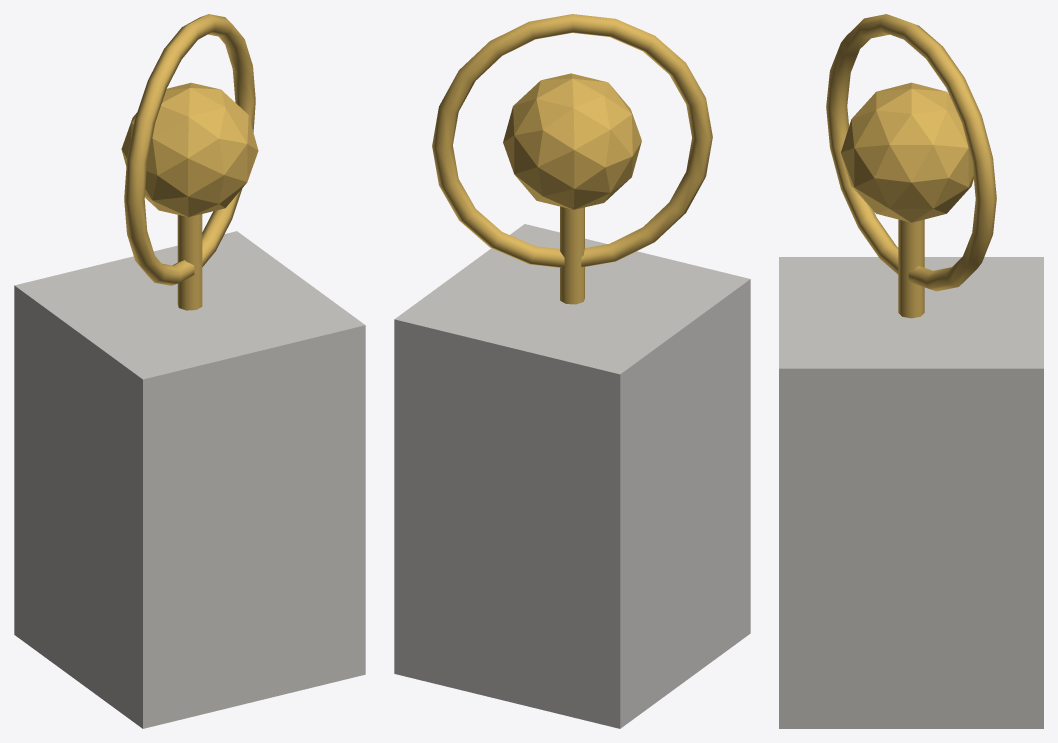
Rendered from escultura.glb.
3 renders of one model, left to right at view 1: azimuth 30°, elevation 25°; view 2: azimuth 150°, elevation 25°; view 3: azimuth 270°, elevation 25°, orthographic. The views are drawn at different scales.
Visible parts, largest first — view 1: escultura_malha; view 2: escultura_malha; view 3: escultura_malha.
Boxes of the visible parts, x1,y1,x2,y2 form: escultura_malha: (14,14,365,728); escultura_malha: (394,14,750,728); escultura_malha: (779,14,1043,728).
Size of the model in its own units: 0.6 by 1.62 by 0.6.
